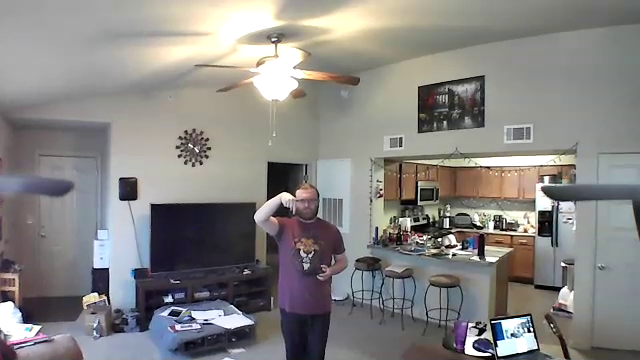down: (273, 185, 298, 216)
